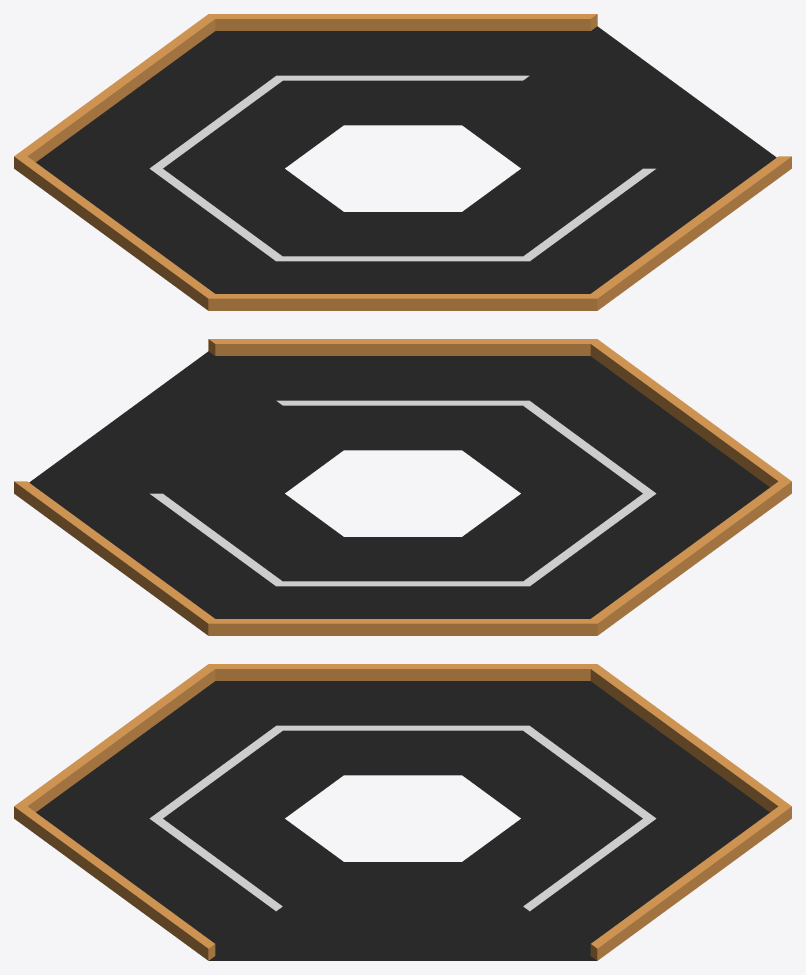
Rendered from Road_cross_Round.fbx.
3 renders of one model, top to bottom at view 1: azimuth 30°, elevation 25°; view 2: azimuth 150°, elevation 25°; view 3: azimuth 270°, elevation 25°, orthographic.
Visible parts, largest first — view 1: RoadRoundabout.001; view 2: RoadRoundabout.001; view 3: RoadRoundabout.001.
Part boxes in pixels (left/top/right/bottom): RoadRoundabout.001: left=14, top=14, right=791, bottom=310; RoadRoundabout.001: left=14, top=339, right=791, bottom=635; RoadRoundabout.001: left=14, top=664, right=791, bottom=960.
Bounding box in the file's own units: 99.94 × 2 × 115.
